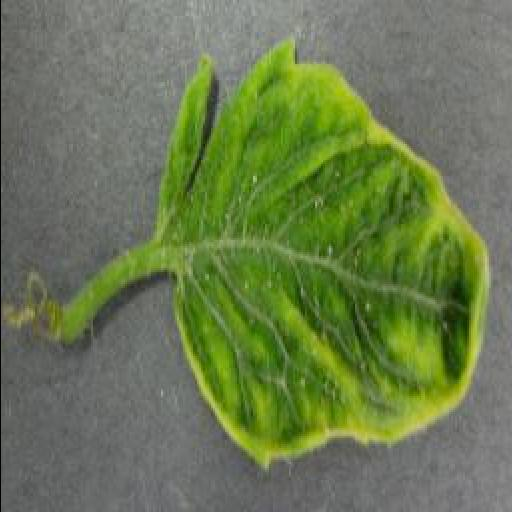disease_tomato: (154, 42, 496, 472)
